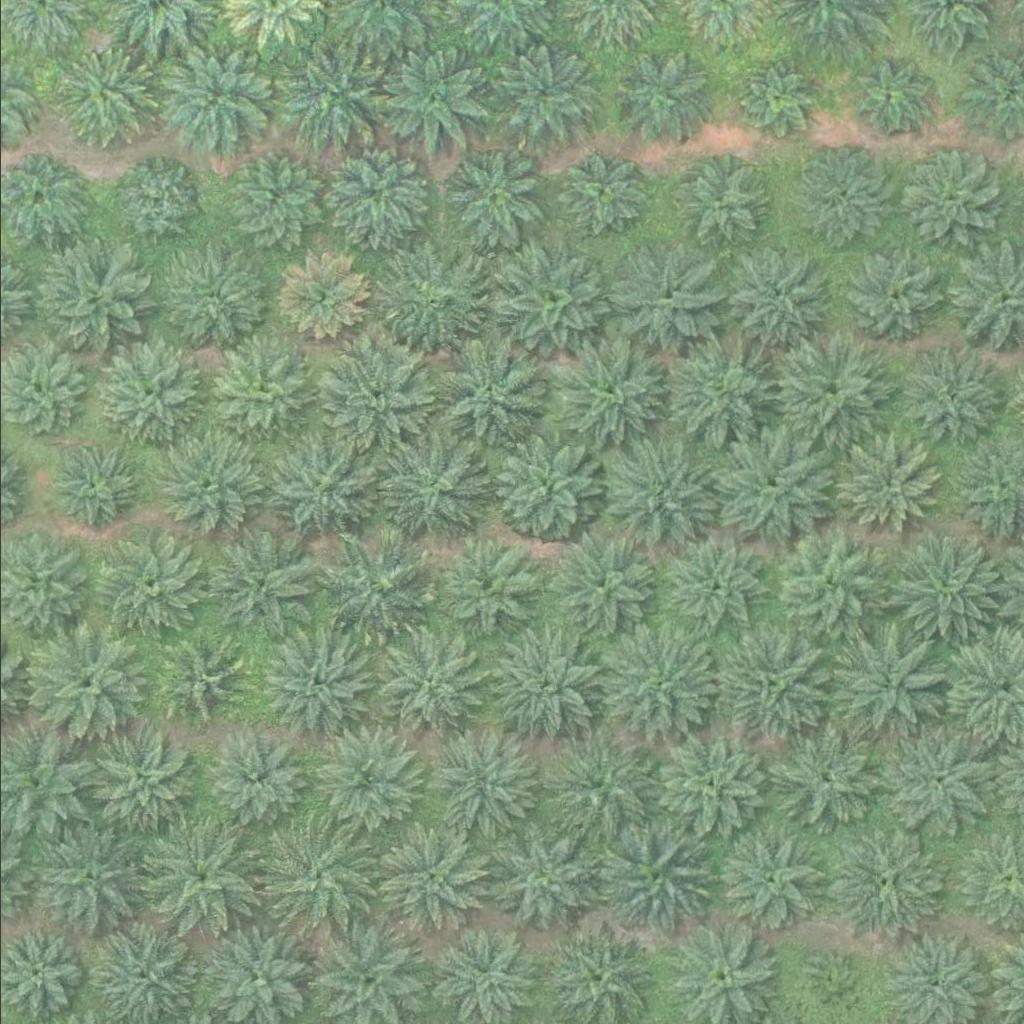Kelapa_Sawit: (374, 42, 488, 155), (773, 525, 887, 638), (715, 630, 829, 743), (597, 630, 711, 743), (541, 729, 655, 842), (426, 730, 540, 843), (151, 39, 265, 152), (835, 629, 948, 742), (886, 531, 999, 644), (834, 238, 947, 351), (721, 239, 834, 352), (608, 245, 721, 358), (494, 245, 607, 358), (553, 335, 666, 448), (427, 337, 540, 450), (317, 340, 430, 453), (485, 626, 598, 739), (367, 633, 480, 746), (308, 726, 421, 839), (141, 821, 254, 934), (36, 820, 149, 933), (87, 723, 200, 836), (264, 432, 377, 545), (277, 40, 390, 153), (651, 731, 765, 843), (486, 823, 600, 935), (369, 822, 483, 934), (826, 828, 939, 940), (879, 731, 992, 843), (372, 246, 485, 358), (775, 331, 888, 443), (659, 334, 772, 446), (715, 433, 828, 545), (603, 439, 716, 551), (491, 433, 604, 545), (378, 428, 491, 540), (548, 532, 661, 644), (318, 529, 431, 641), (770, 725, 883, 837), (594, 823, 707, 935), (261, 817, 374, 929), (31, 627, 144, 739), (92, 526, 205, 638), (264, 626, 377, 738), (205, 530, 318, 642), (29, 248, 142, 360), (838, 437, 939, 537), (900, 350, 1001, 450), (614, 50, 715, 150), (489, 45, 590, 145), (664, 151, 765, 251), (441, 144, 542, 244), (437, 541, 538, 641), (717, 833, 818, 933), (162, 434, 263, 534), (211, 345, 312, 445), (225, 152, 326, 252), (165, 254, 266, 354), (895, 148, 995, 248), (791, 148, 891, 248), (326, 144, 426, 244), (660, 536, 760, 636), (100, 344, 200, 444), (50, 46, 150, 146), (154, 637, 243, 725), (734, 58, 822, 146), (558, 148, 646, 236), (277, 252, 365, 340), (51, 439, 139, 526), (212, 738, 300, 825), (110, 160, 198, 247), (851, 58, 927, 133), (798, 959, 861, 1021)
